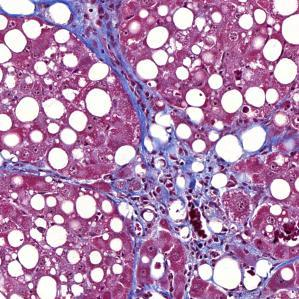fibrosis: (131, 137, 243, 230)
